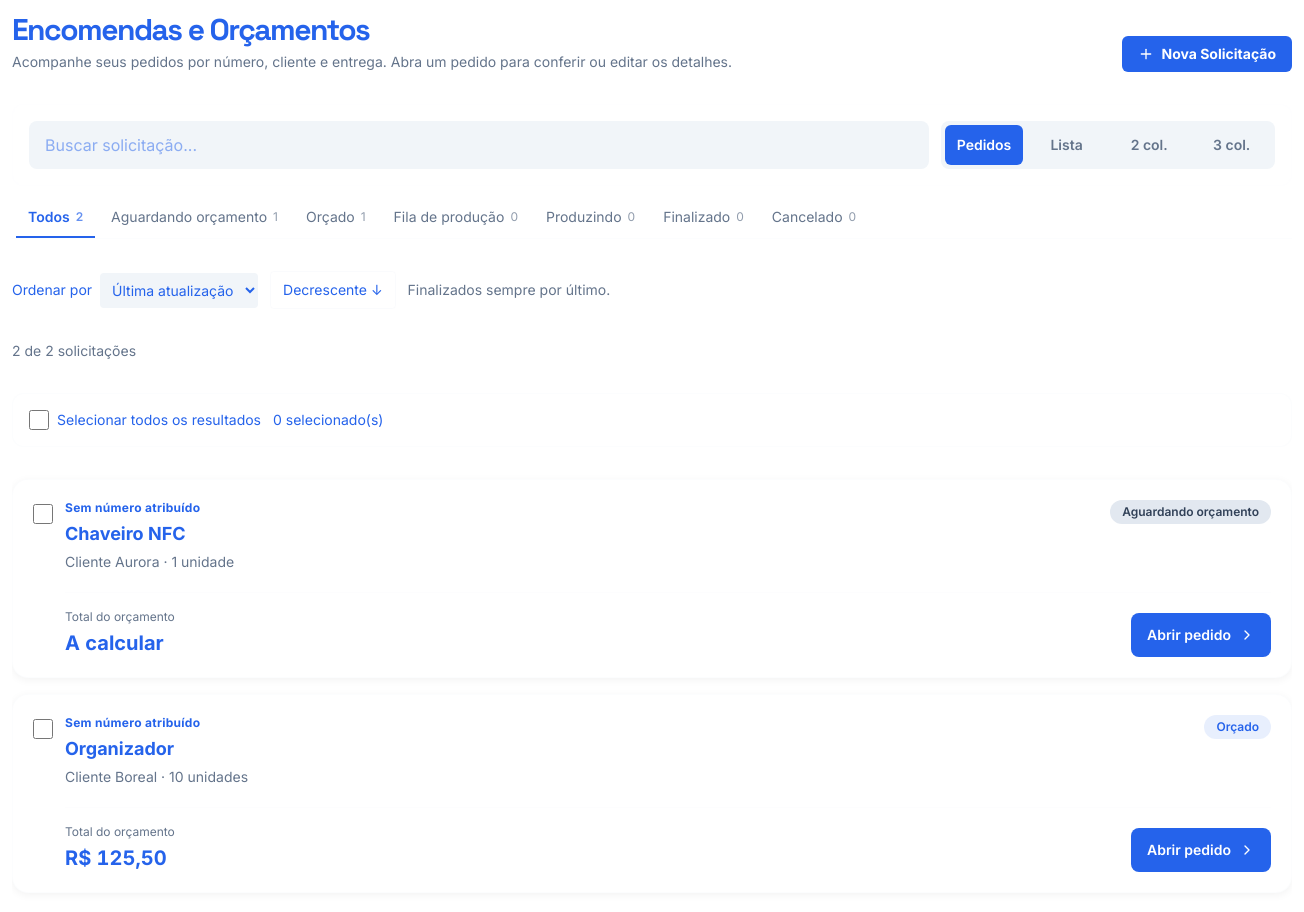
Test: lista mostra quantidade e preço registrado, distinguindo orçamento pendente de preço zero
Click the button with aria-label "Lista simplificada".
click(1067, 145)  # box [1027, 125, 1106, 165]
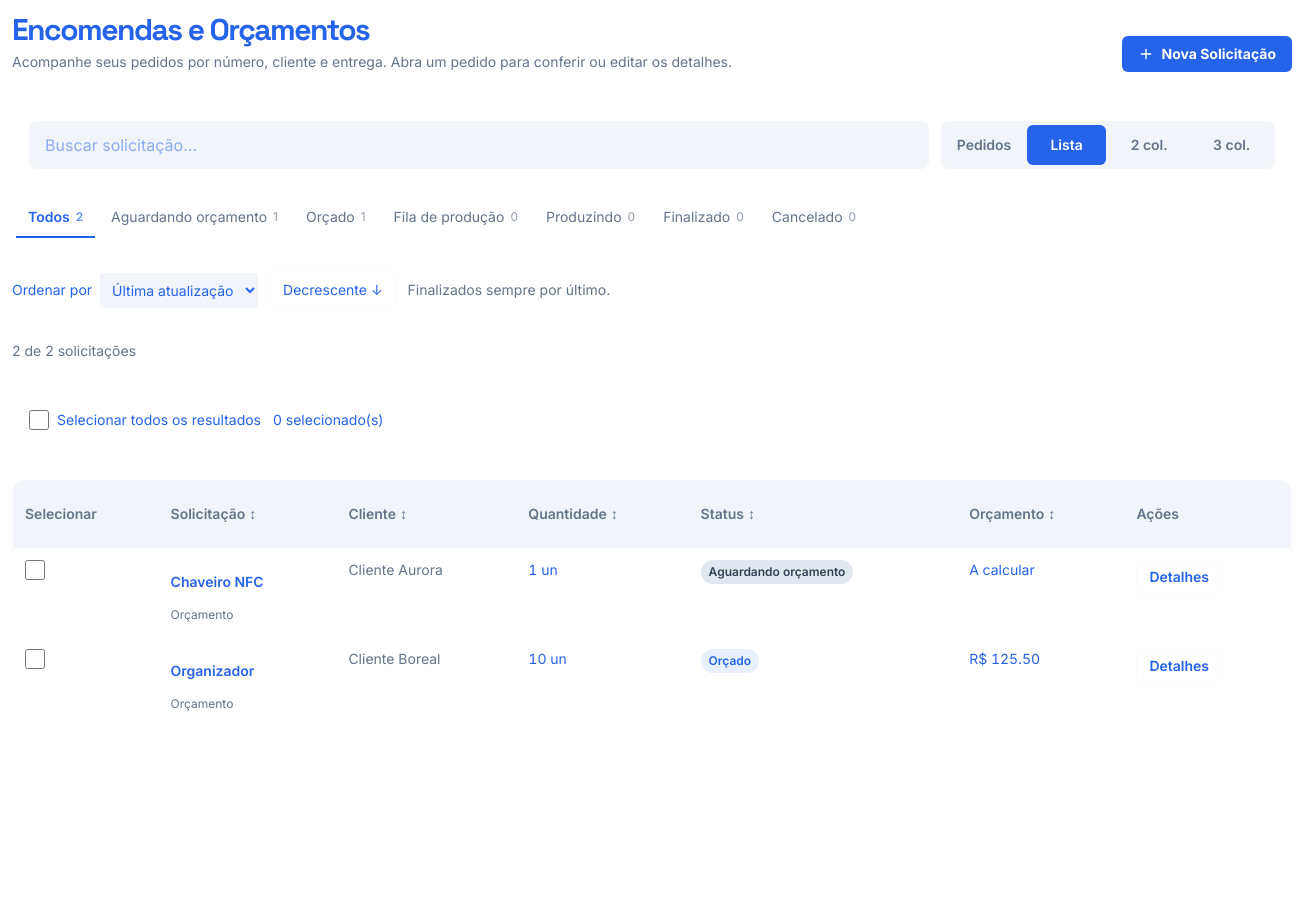
Expected: the text "1 un" is shown, [516, 548, 689, 636]
Expected: the text "R$ 125.50" is shown, [957, 636, 1124, 725]
